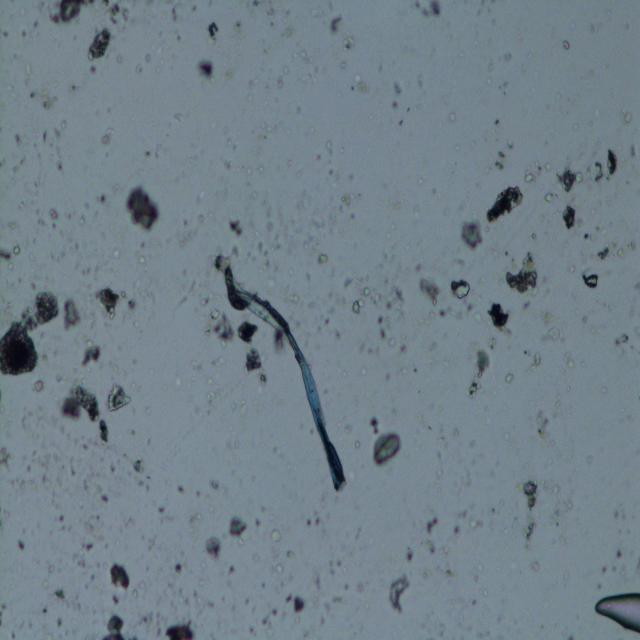Air bubble: (593, 590, 640, 636)
Background material: (1, 281, 57, 376), (350, 286, 404, 346), (60, 384, 110, 442), (364, 413, 402, 466), (123, 183, 164, 231), (482, 185, 526, 224), (505, 248, 540, 296), (541, 477, 575, 524), (201, 307, 237, 344), (466, 348, 490, 398), (257, 232, 284, 275), (371, 250, 400, 289), (174, 213, 208, 246), (242, 344, 268, 387), (87, 23, 113, 66), (387, 572, 411, 615), (300, 210, 324, 250), (95, 284, 121, 320), (461, 217, 488, 251), (106, 378, 131, 414), (104, 0, 134, 30), (554, 164, 586, 192), (294, 48, 320, 82), (486, 297, 512, 331), (591, 148, 617, 181), (319, 594, 345, 626), (108, 560, 132, 594), (424, 564, 458, 588), (162, 616, 195, 640), (62, 294, 82, 333), (56, 0, 93, 21), (237, 317, 261, 349), (559, 202, 581, 234), (421, 611, 447, 638), (520, 477, 540, 512), (535, 406, 553, 444), (449, 273, 472, 302), (250, 113, 272, 142), (432, 423, 446, 468), (81, 340, 102, 369), (282, 589, 306, 614), (39, 85, 59, 115), (419, 275, 441, 302), (74, 536, 95, 564), (414, 1, 443, 21), (522, 519, 539, 553), (167, 584, 191, 608), (105, 613, 129, 637), (80, 509, 102, 535), (262, 605, 280, 636), (348, 70, 370, 95), (528, 154, 552, 176), (202, 370, 217, 405), (322, 552, 343, 577), (229, 514, 248, 541), (222, 430, 244, 453), (597, 239, 619, 262), (204, 534, 222, 562), (580, 266, 601, 290), (227, 214, 245, 242), (618, 101, 637, 127), (453, 512, 472, 538), (96, 125, 114, 152), (0, 442, 16, 471), (196, 57, 216, 80), (141, 607, 161, 630), (8, 473, 32, 492), (547, 323, 566, 347), (260, 199, 274, 231), (183, 508, 204, 529), (617, 236, 637, 258), (443, 250, 467, 268), (9, 157, 28, 179), (323, 214, 339, 239), (230, 21, 247, 44), (426, 513, 441, 539), (106, 239, 124, 260), (328, 12, 344, 35), (493, 146, 507, 172), (304, 512, 322, 532), (0, 244, 20, 262), (440, 306, 462, 322), (136, 240, 150, 264), (46, 206, 60, 230), (616, 330, 632, 351), (0, 600, 12, 627), (188, 353, 203, 374), (339, 194, 357, 211), (424, 536, 439, 555), (582, 229, 598, 246), (216, 156, 232, 173), (269, 527, 284, 545), (208, 355, 227, 369), (68, 456, 80, 478), (316, 251, 332, 267), (282, 24, 298, 40), (224, 63, 238, 81), (502, 368, 516, 386), (98, 185, 110, 205), (371, 412, 381, 436), (76, 260, 92, 275), (53, 586, 67, 603), (207, 21, 220, 39), (552, 391, 563, 412), (344, 36, 356, 55), (80, 477, 94, 493), (402, 547, 416, 563), (311, 572, 325, 588), (522, 170, 536, 186), (469, 515, 482, 532), (501, 430, 515, 445), (32, 380, 46, 395), (342, 207, 358, 220), (54, 122, 64, 142), (40, 126, 50, 146), (398, 341, 412, 355), (564, 352, 576, 368), (472, 305, 484, 321), (628, 141, 638, 160), (414, 73, 427, 87), (263, 0, 273, 18), (12, 129, 22, 147), (280, 60, 292, 75), (24, 250, 38, 262), (171, 560, 183, 574), (130, 460, 144, 472), (139, 475, 150, 490), (132, 62, 142, 78), (327, 136, 335, 156), (281, 576, 295, 587), (172, 107, 183, 121), (248, 623, 258, 638), (342, 277, 354, 289), (533, 351, 541, 369), (209, 479, 219, 493), (276, 562, 286, 576), (499, 53, 513, 63), (40, 630, 54, 640), (238, 168, 252, 178), (52, 514, 66, 524), (542, 193, 556, 203), (170, 4, 178, 21), (57, 158, 65, 175), (413, 261, 422, 276), (613, 545, 622, 560), (225, 564, 236, 576), (39, 471, 49, 484), (203, 598, 216, 608), (562, 39, 572, 52), (528, 561, 541, 571), (311, 5, 321, 18), (54, 617, 64, 630), (113, 590, 121, 606), (596, 224, 608, 234), (30, 452, 40, 464), (446, 110, 456, 122), (286, 548, 296, 560), (31, 21, 39, 36), (449, 426, 459, 438), (324, 314, 332, 329), (116, 51, 124, 66), (76, 214, 84, 228), (559, 533, 567, 547), (400, 364, 408, 378), (130, 298, 138, 312), (490, 116, 500, 127), (176, 483, 186, 494), (506, 142, 516, 153), (81, 445, 91, 456), (389, 98, 399, 109), (132, 588, 142, 599), (18, 542, 28, 553), (275, 80, 285, 91), (100, 494, 112, 503), (353, 438, 362, 450), (401, 264, 410, 276), (394, 80, 401, 95), (30, 90, 38, 103), (476, 560, 484, 573), (195, 489, 203, 501), (90, 569, 96, 585), (108, 462, 116, 474), (484, 76, 494, 85), (567, 263, 576, 273), (254, 516, 262, 527), (338, 58, 346, 69), (158, 504, 165, 516), (257, 581, 267, 589), (145, 52, 152, 63), (176, 30, 182, 42), (612, 510, 620, 519), (244, 596, 252, 605), (256, 164, 264, 173), (403, 105, 411, 114), (89, 66, 98, 74), (469, 598, 476, 608), (327, 170, 334, 180), (472, 574, 479, 584), (49, 565, 56, 575), (70, 82, 80, 89), (43, 352, 49, 363), (122, 289, 128, 300), (24, 464, 32, 472), (342, 584, 350, 592), (145, 148, 153, 156), (252, 0, 260, 8), (129, 429, 138, 436), (156, 628, 162, 638), (21, 28, 29, 35), (39, 606, 47, 613), (610, 566, 617, 574), (397, 118, 404, 126), (337, 329, 342, 340), (27, 78, 33, 87), (10, 630, 16, 639), (547, 459, 553, 468), (41, 582, 50, 588), (34, 183, 40, 191), (602, 566, 608, 574), (270, 19, 276, 27), (387, 370, 392, 379), (607, 196, 611, 207), (531, 231, 537, 238), (551, 441, 557, 448), (412, 367, 418, 374), (376, 346, 380, 356), (260, 507, 267, 512), (568, 634, 573, 640)
Cotton: (210, 253, 348, 494)
